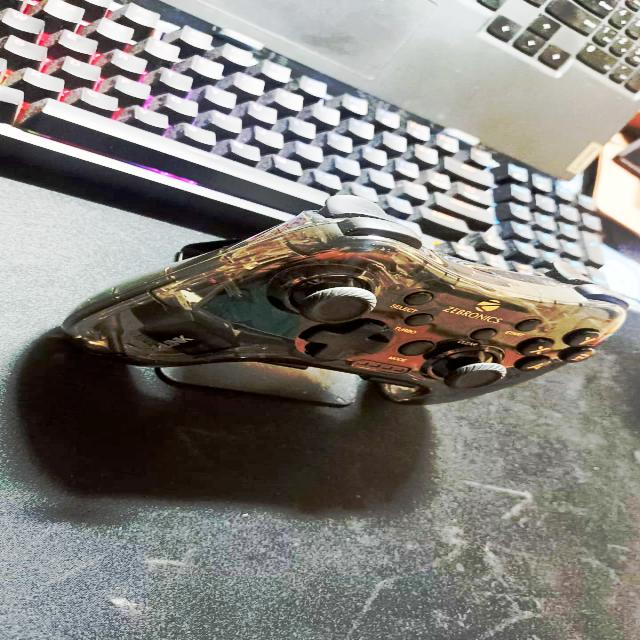gamepad: (2, 5, 639, 509)
